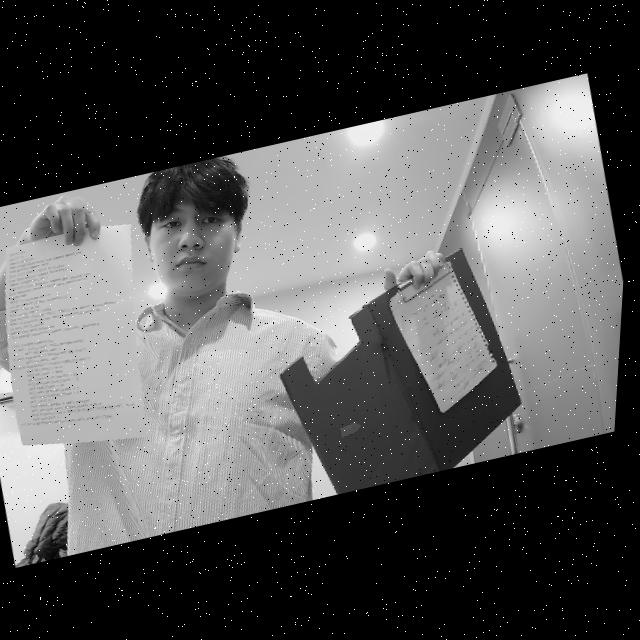document: (4, 222, 146, 445), (385, 260, 498, 415)
face: (132, 154, 260, 314)
